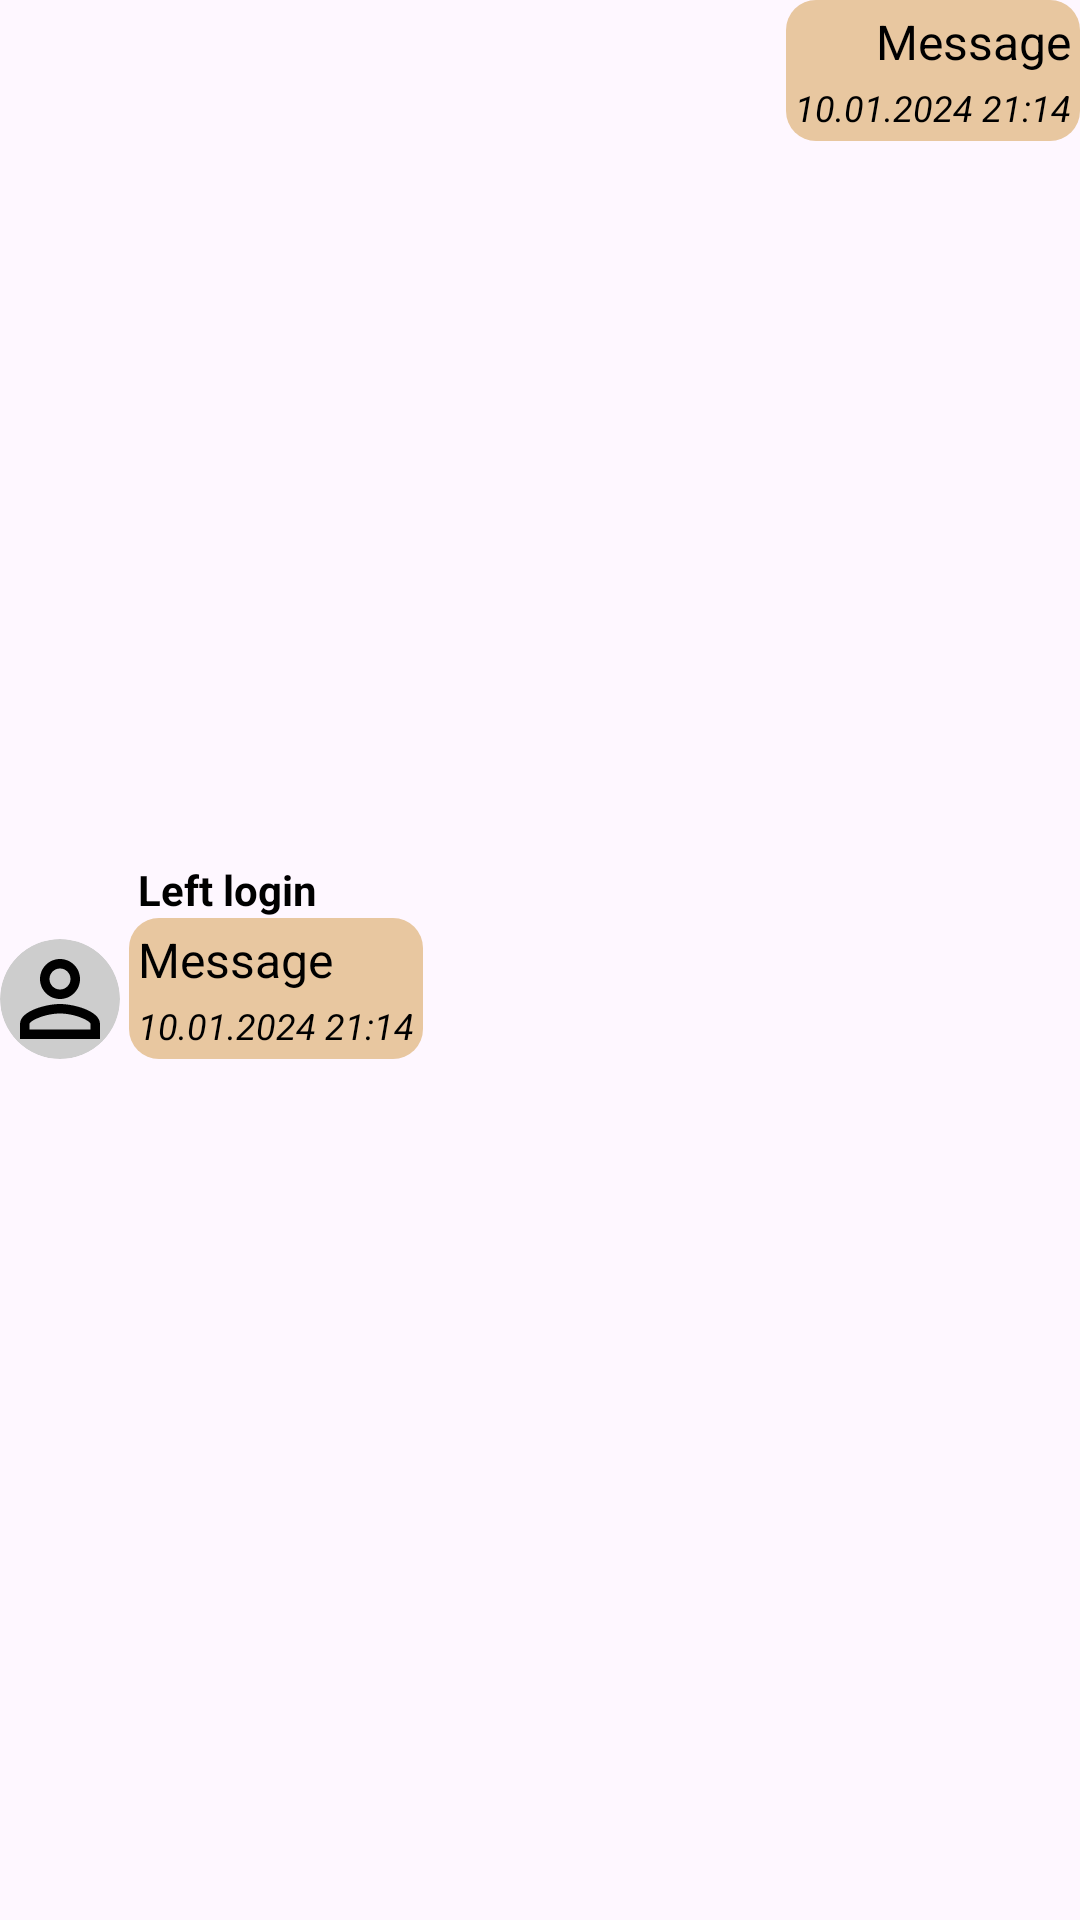

Icons on this 1080 x 1920 Android screen, each with the point to tap as point (x, y):
person: point (60, 999)
